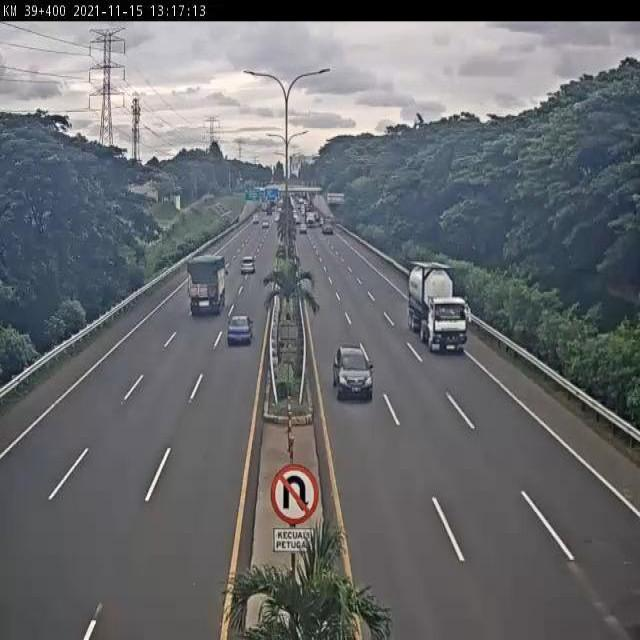car: (333, 342, 376, 402), (225, 311, 255, 345), (239, 252, 257, 277)
truck-l-: (186, 250, 229, 318)
truck-xl-: (406, 256, 470, 357)
